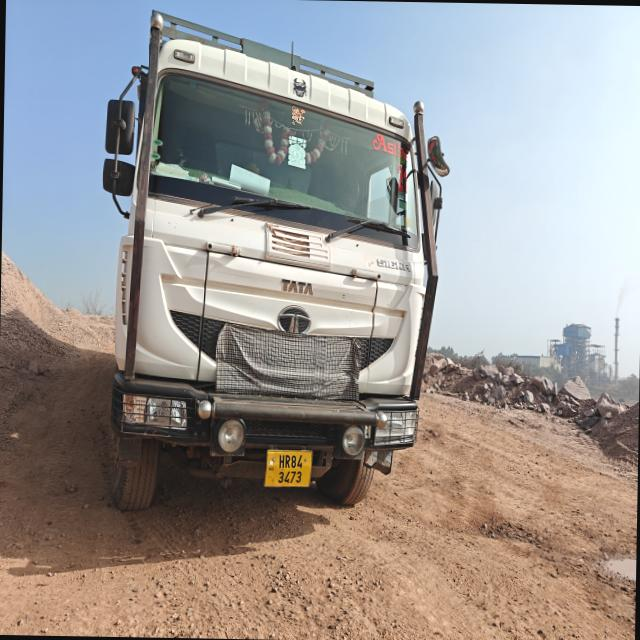license_plate: (265, 451, 312, 487)
